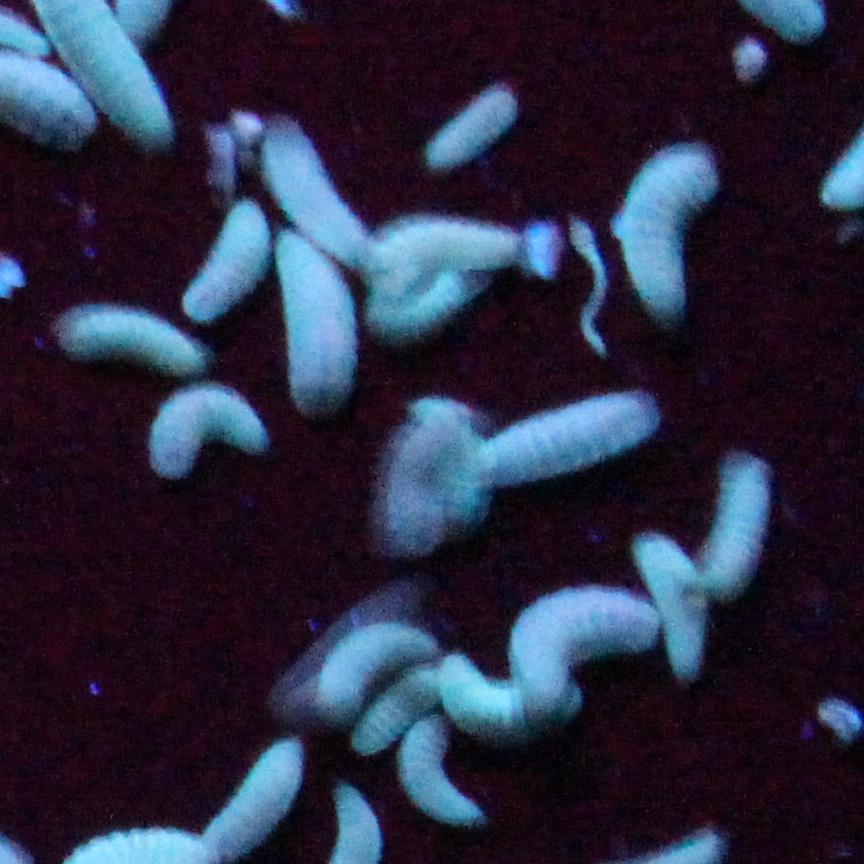larve: (478, 384, 670, 488), (378, 400, 474, 556), (530, 592, 658, 704), (254, 128, 382, 236), (55, 302, 210, 384), (146, 396, 290, 484), (278, 256, 366, 396), (634, 148, 706, 308), (214, 744, 310, 860), (386, 208, 514, 292), (306, 628, 426, 716), (398, 712, 482, 828), (638, 536, 718, 656), (702, 464, 770, 584), (426, 96, 526, 172), (194, 204, 254, 324)
